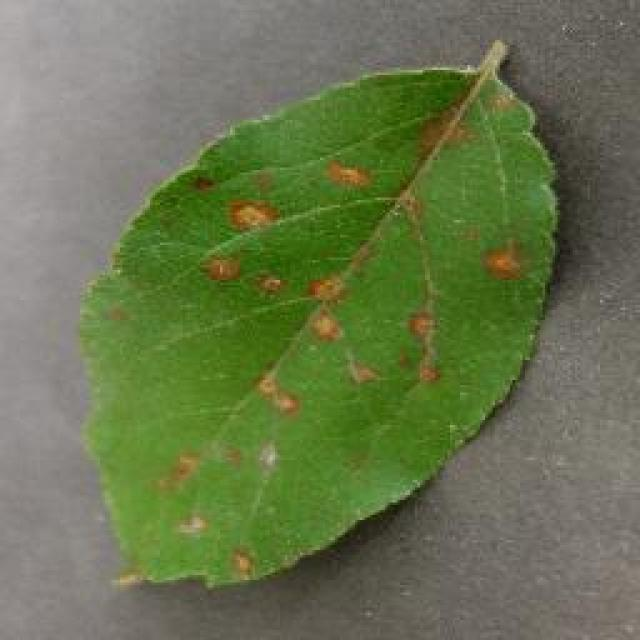apple cedar apple rust: (75, 38, 563, 590)
